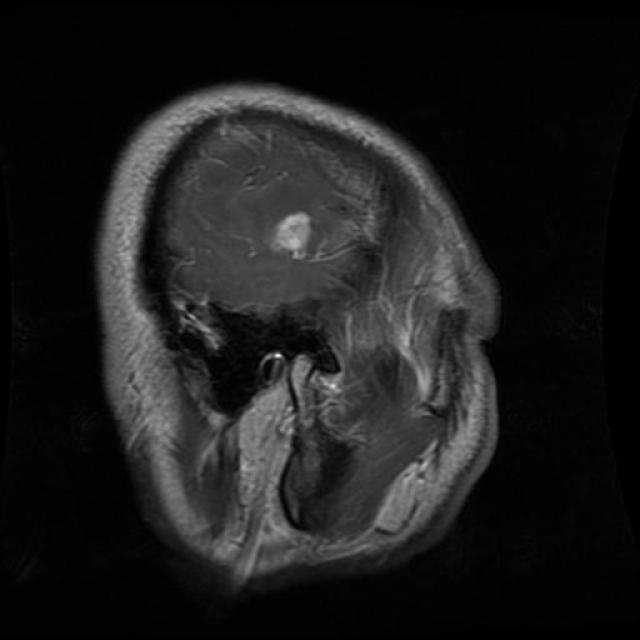glioma: (272, 212, 316, 260)
